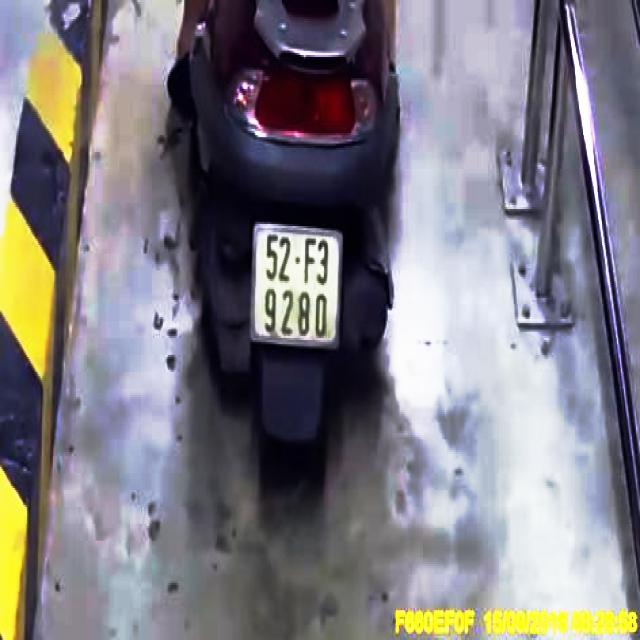license_plate: (257, 229, 343, 346)
